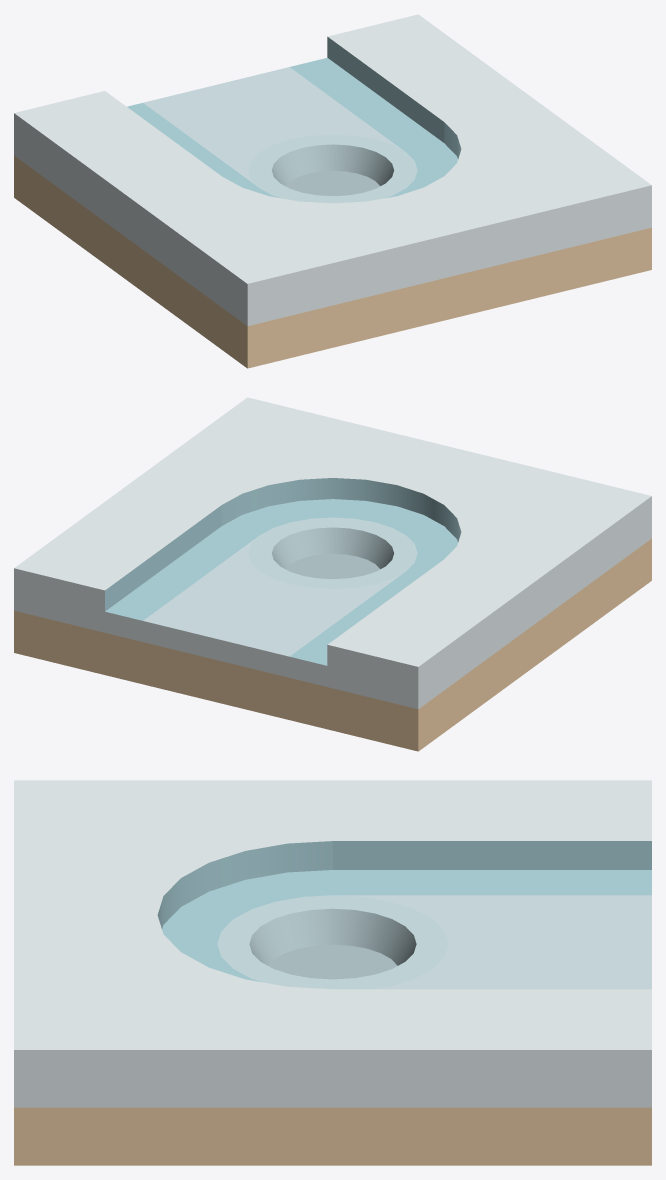
File: snow_tile_endRoundSpawn.glb
3 views of the same model, one above another, from view 1: azimuth 30°, elevation 25°; view 2: azimuth 150°, elevation 25°; view 3: azimuth 270°, elevation 25° (orthographic). The views are drawn at different scales.
Parts seen in each view (by area): view 1: snow_tile_endRoundSpawn; view 2: snow_tile_endRoundSpawn; view 3: snow_tile_endRoundSpawn.
Part boxes in pixels (<box>): snow_tile_endRoundSpawn: <box>14,14,651,368</box>; snow_tile_endRoundSpawn: <box>14,397,651,751</box>; snow_tile_endRoundSpawn: <box>14,780,651,1165</box>.
Bounding box in the file's own units: 1 × 0.2 × 1.
